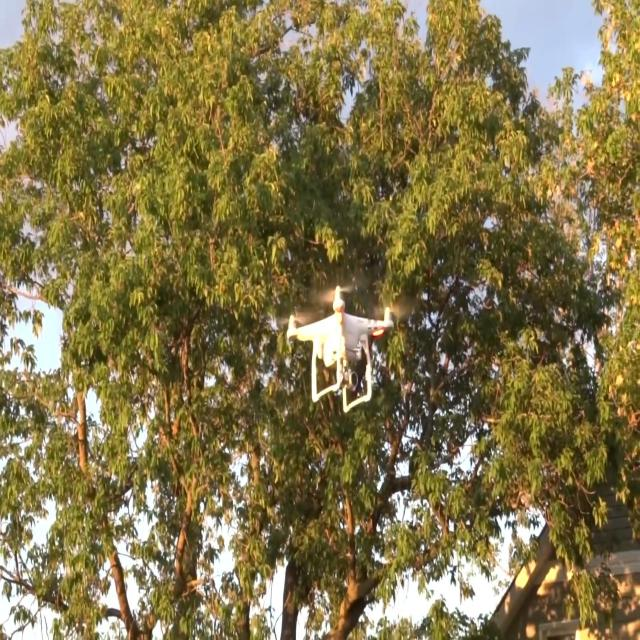drone: (283, 277, 395, 414)
